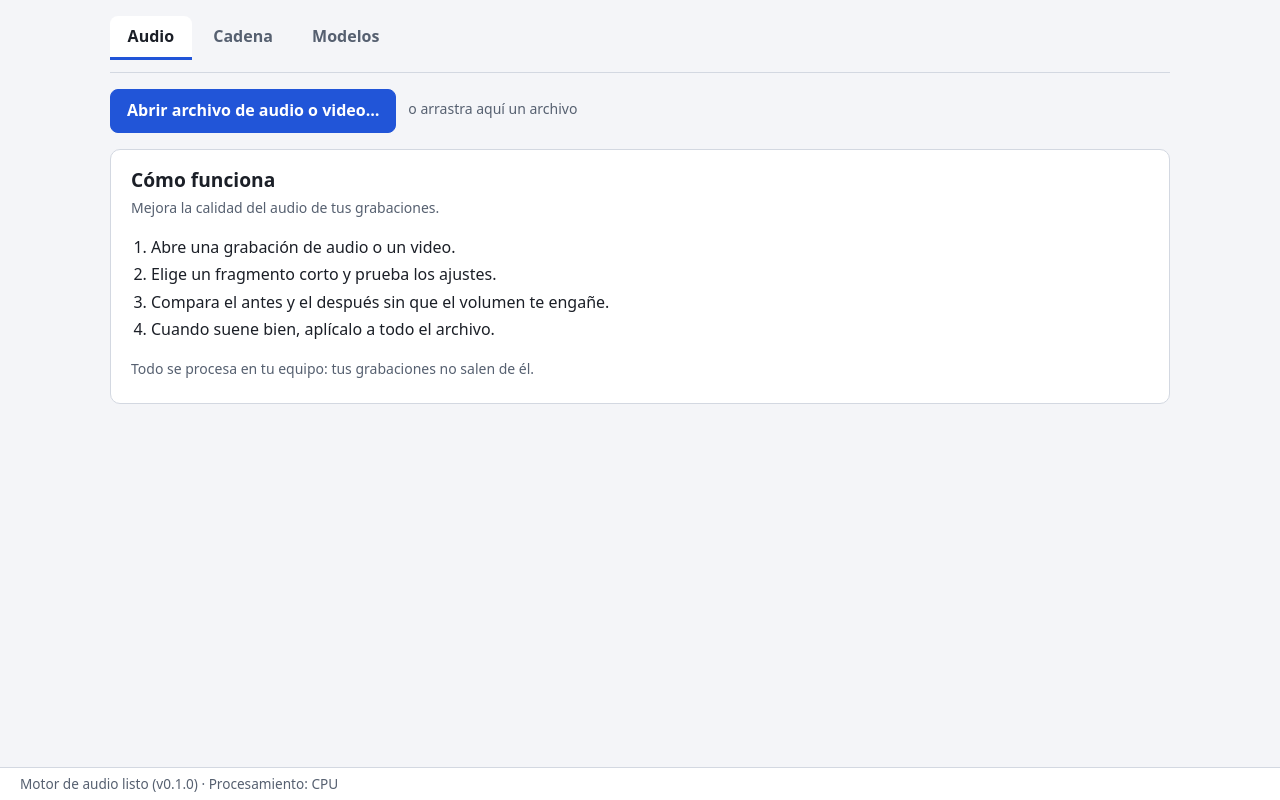
Test: App › la vista previa extrae el original y procesa solo la región con los ajustes actuales
Click the button "Abrir archivo de audio o video…" at (253, 111), box [110, 89, 396, 133]
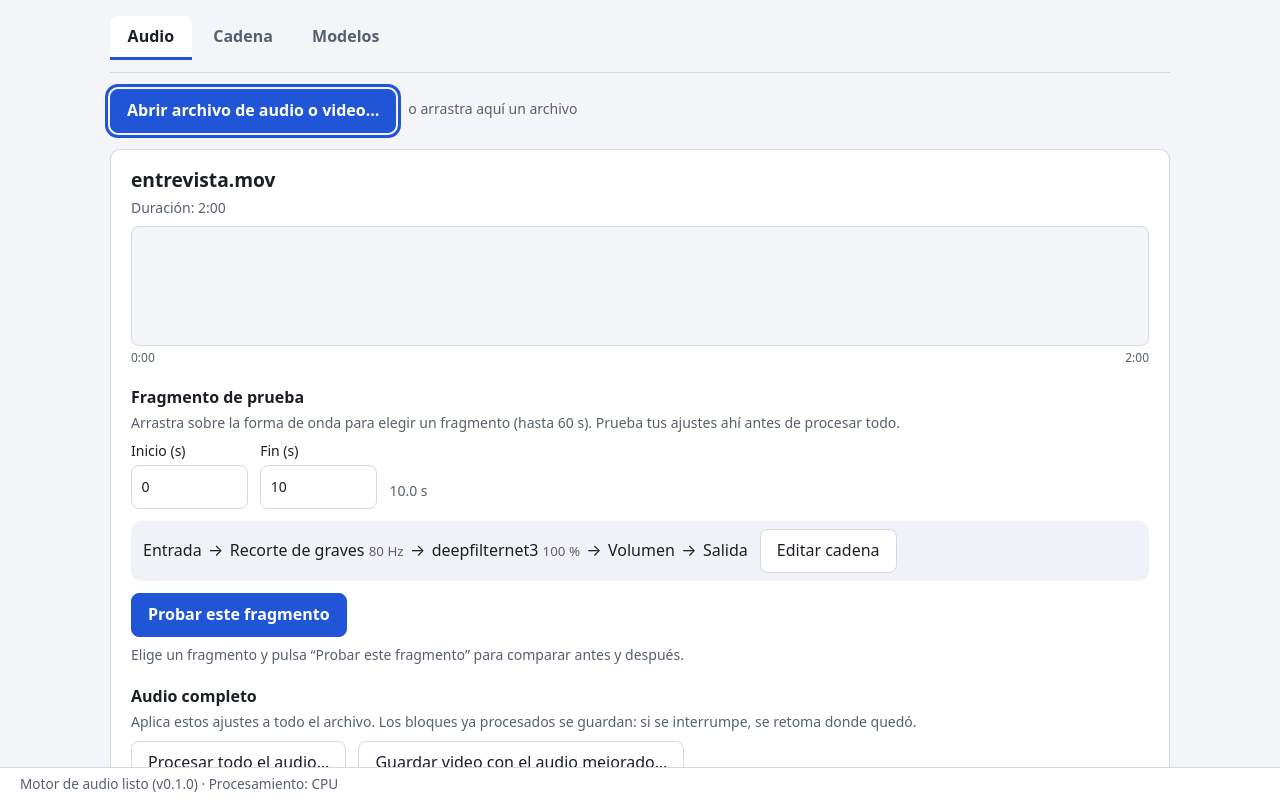
expect the heading "entrevista.mov" is shown: met, box [131, 166, 276, 193]
Click the button "Probar este fragmento" at (239, 615), box [131, 593, 346, 637]
(page scrolled)
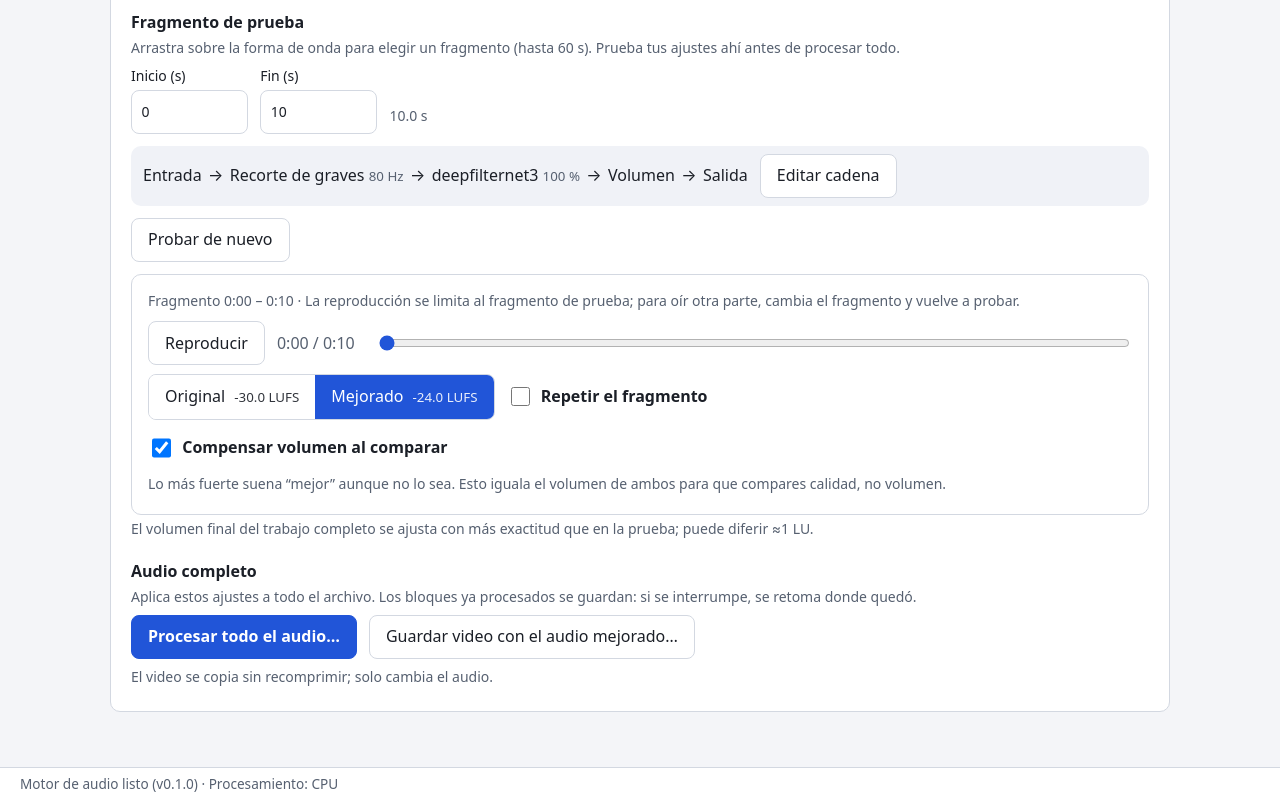
expect the checkbox labelled "Compensar volumen al comparar" is shown: met, box [152, 438, 171, 458]
